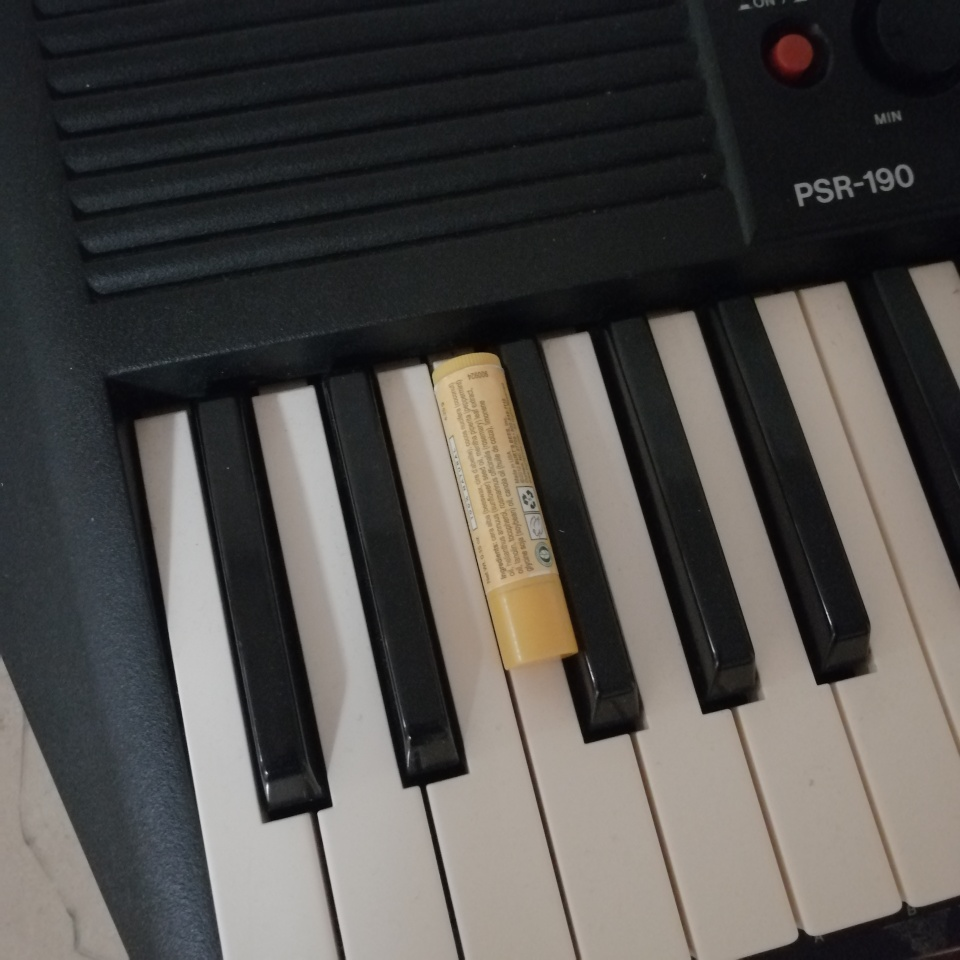chapstick: (427, 346, 580, 673)
